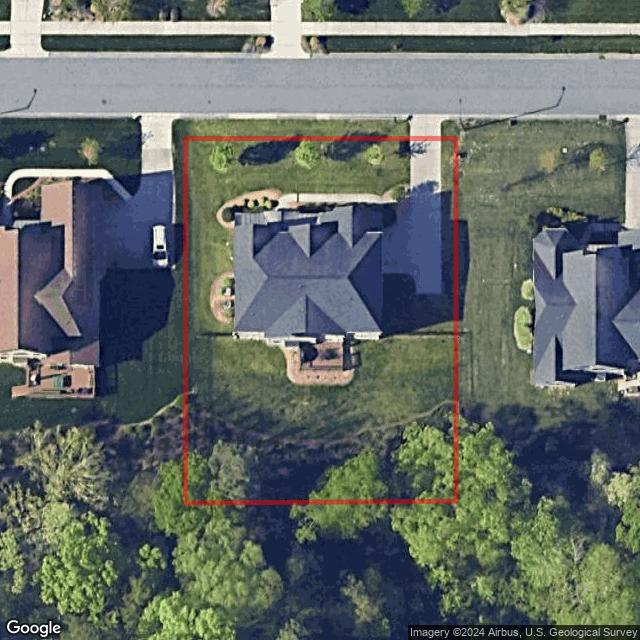Driveway: (382, 136, 442, 294)
Extra-Driveway: (408, 120, 442, 140)
Extra-Lawn: (186, 119, 411, 140), (441, 119, 459, 141)
House: (234, 205, 383, 341)
Lawn: (185, 137, 458, 504)
Other: (265, 340, 355, 385), (215, 190, 282, 228), (210, 272, 235, 324), (383, 182, 411, 217)
Sidewalk: (275, 194, 403, 222)
